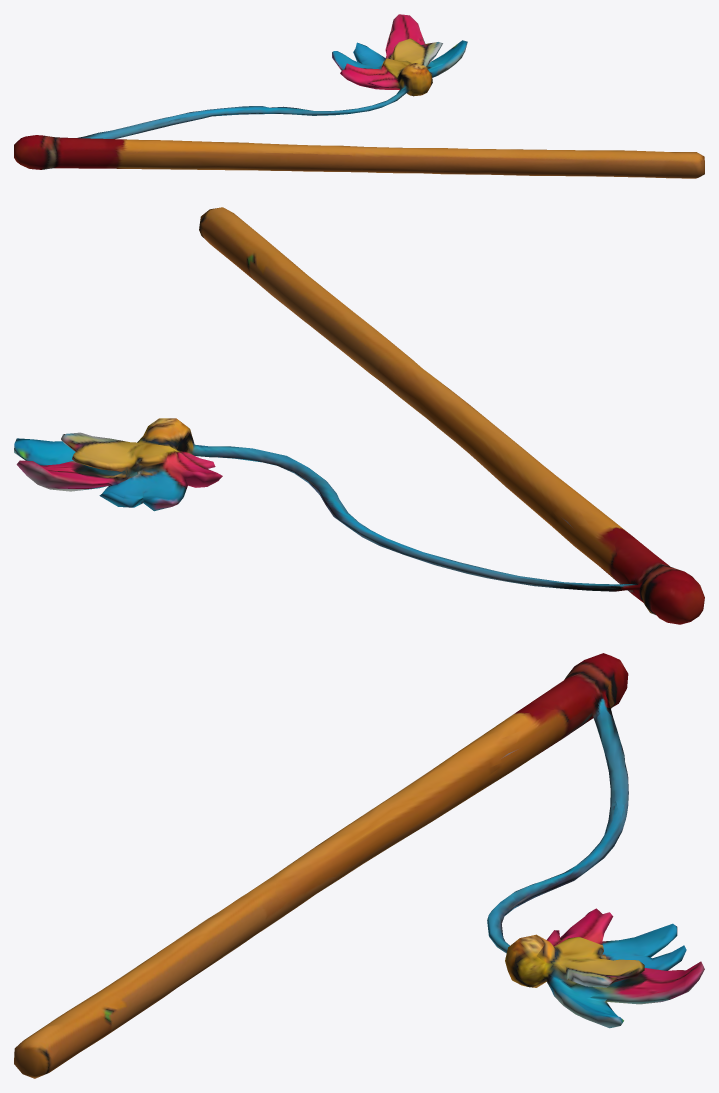
File: Toy.fbx
The picture shows the model from 3 angles, top to bottom: view 1: azimuth 30°, elevation 25°; view 2: azimuth 150°, elevation 25°; view 3: azimuth 270°, elevation 25°; orthographic projection. The views are drawn at different scales.
Parts seen in each view (by area): view 1: tripo_node_fc5ccc52; view 2: tripo_node_fc5ccc52; view 3: tripo_node_fc5ccc52.
Part boxes in pixels (x1,y1,x2,y2): tripo_node_fc5ccc52: (14, 14, 704, 178); tripo_node_fc5ccc52: (14, 207, 704, 624); tripo_node_fc5ccc52: (14, 653, 704, 1078).
Bounding box in the file's own units: 61.42 × 3.92 × 45.31.
